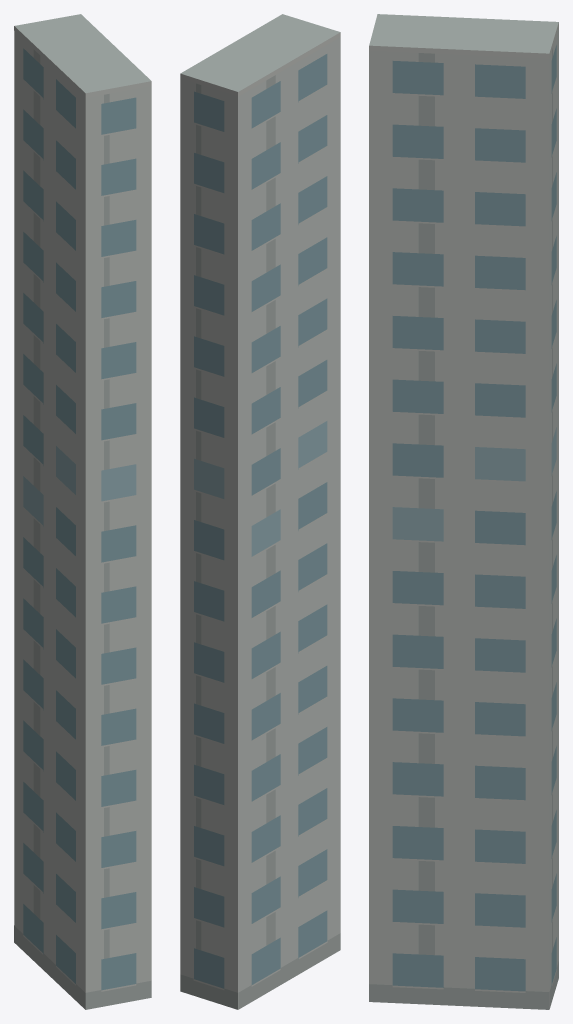
File: survey-upis-32706320.glb
The picture shows the model from 3 angles, left to right: view 1: azimuth 30°, elevation 25°; view 2: azimuth 150°, elevation 25°; view 3: azimuth 270°, elevation 25°; orthographic projection. The views are drawn at different scales.
Parts seen in each view (by area): view 1: survey-upis-32706320.tmp; view 2: survey-upis-32706320.tmp; view 3: survey-upis-32706320.tmp.
Boxes of the visible parts, left/top/right/bottom form: survey-upis-32706320.tmp: left=14, top=14, right=151, bottom=1009; survey-upis-32706320.tmp: left=180, top=14, right=340, bottom=1009; survey-upis-32706320.tmp: left=369, top=14, right=558, bottom=1009.
Bounding box in the file's own units: 4.07 × 45.75 × 8.24.
